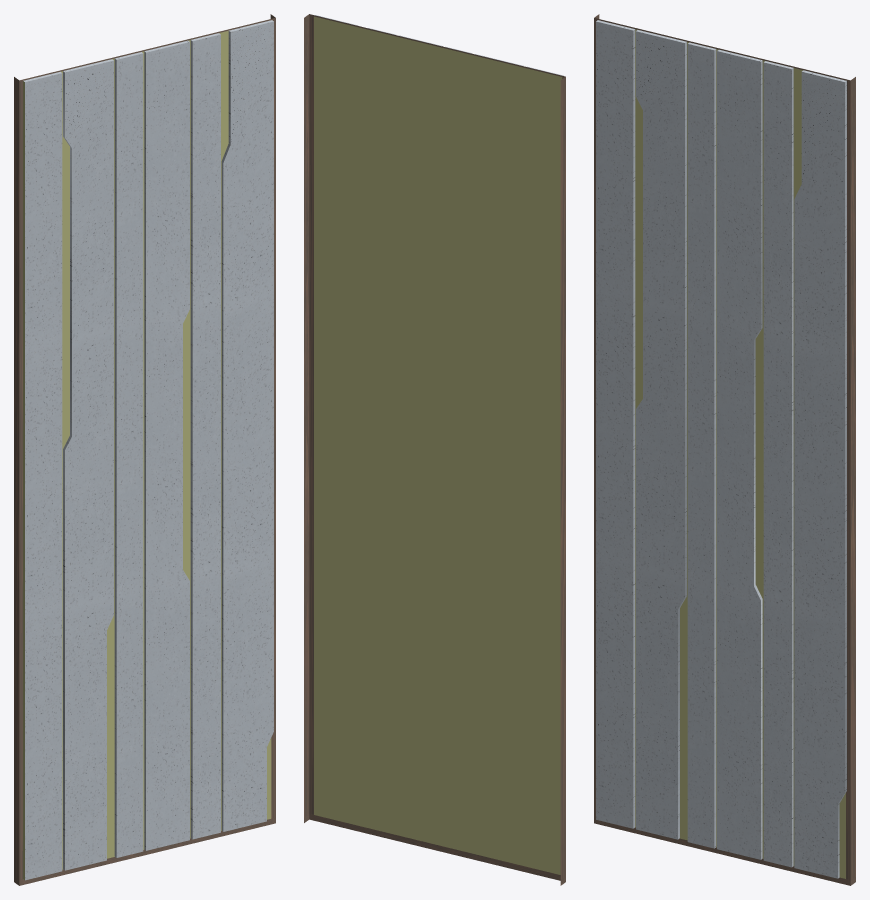
3 views of the same model, side by side, from view 1: azimuth 30°, elevation 25°; view 2: azimuth 150°, elevation 25°; view 3: azimuth 330°, elevation 25° (orthographic).
Parts seen in each view (by area): view 1: M_W_005_d_4x12; view 2: M_W_005_d_4x12; view 3: M_W_005_d_4x12.
Part boxes in pixels (left/top/right/bottom): M_W_005_d_4x12: left=14, top=14, right=275, bottom=885; M_W_005_d_4x12: left=304, top=14, right=565, bottom=885; M_W_005_d_4x12: left=594, top=14, right=855, bottom=885.
Bounding box in the file's own units: 4 × 12 × 0.1921.
